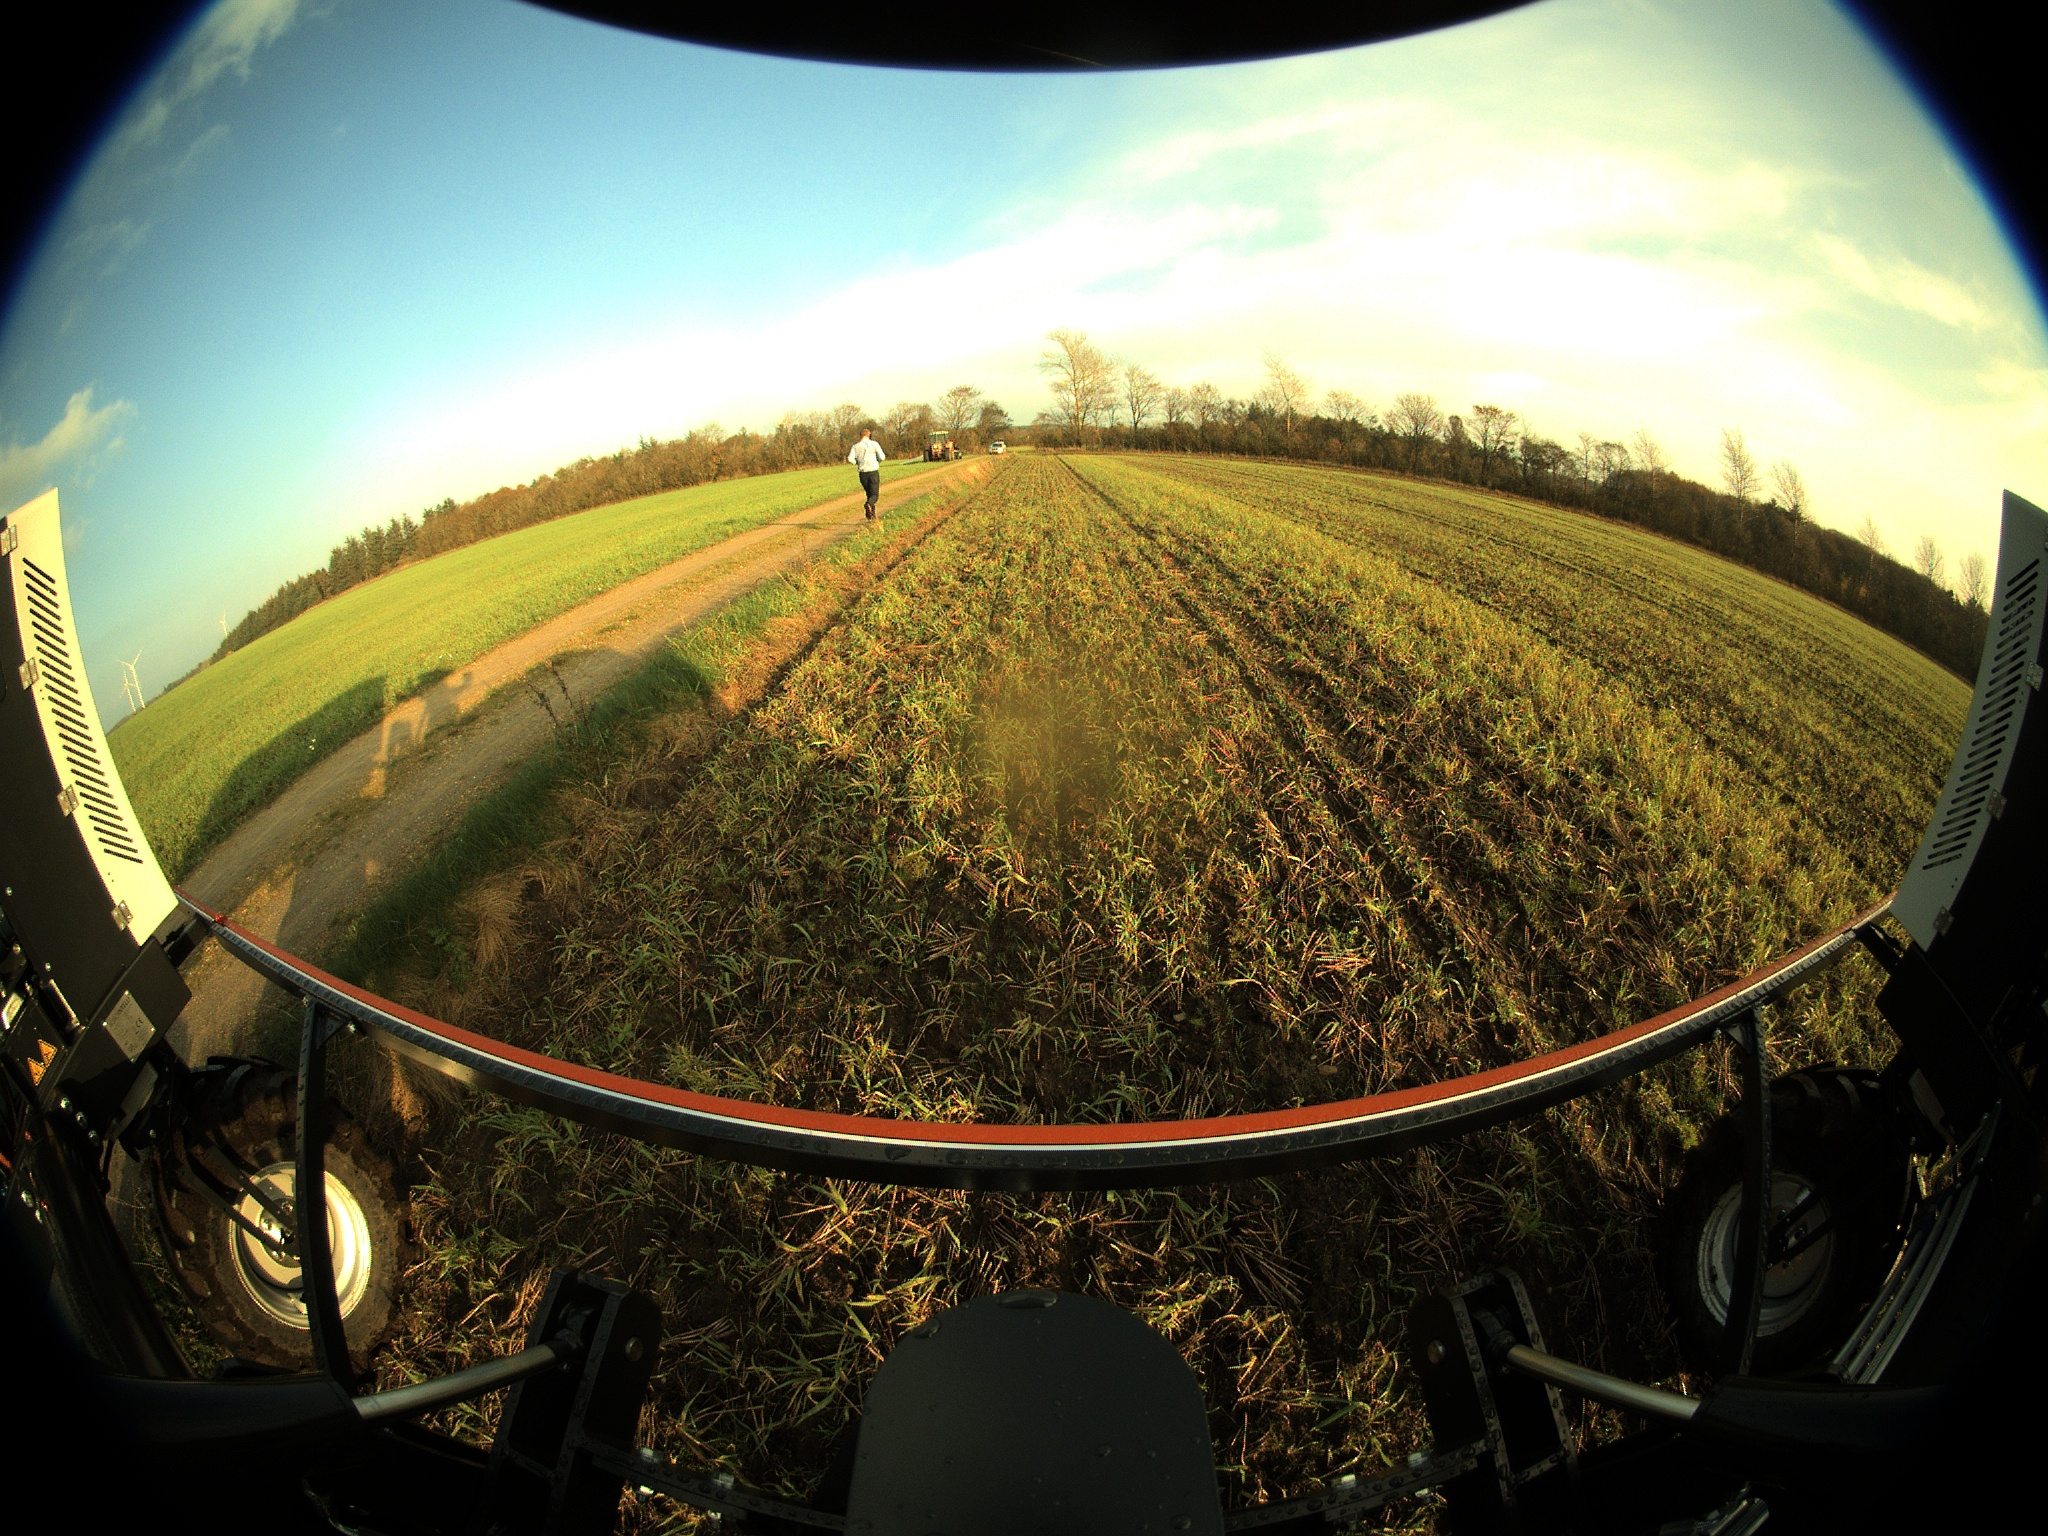person: (848, 428, 886, 521)
